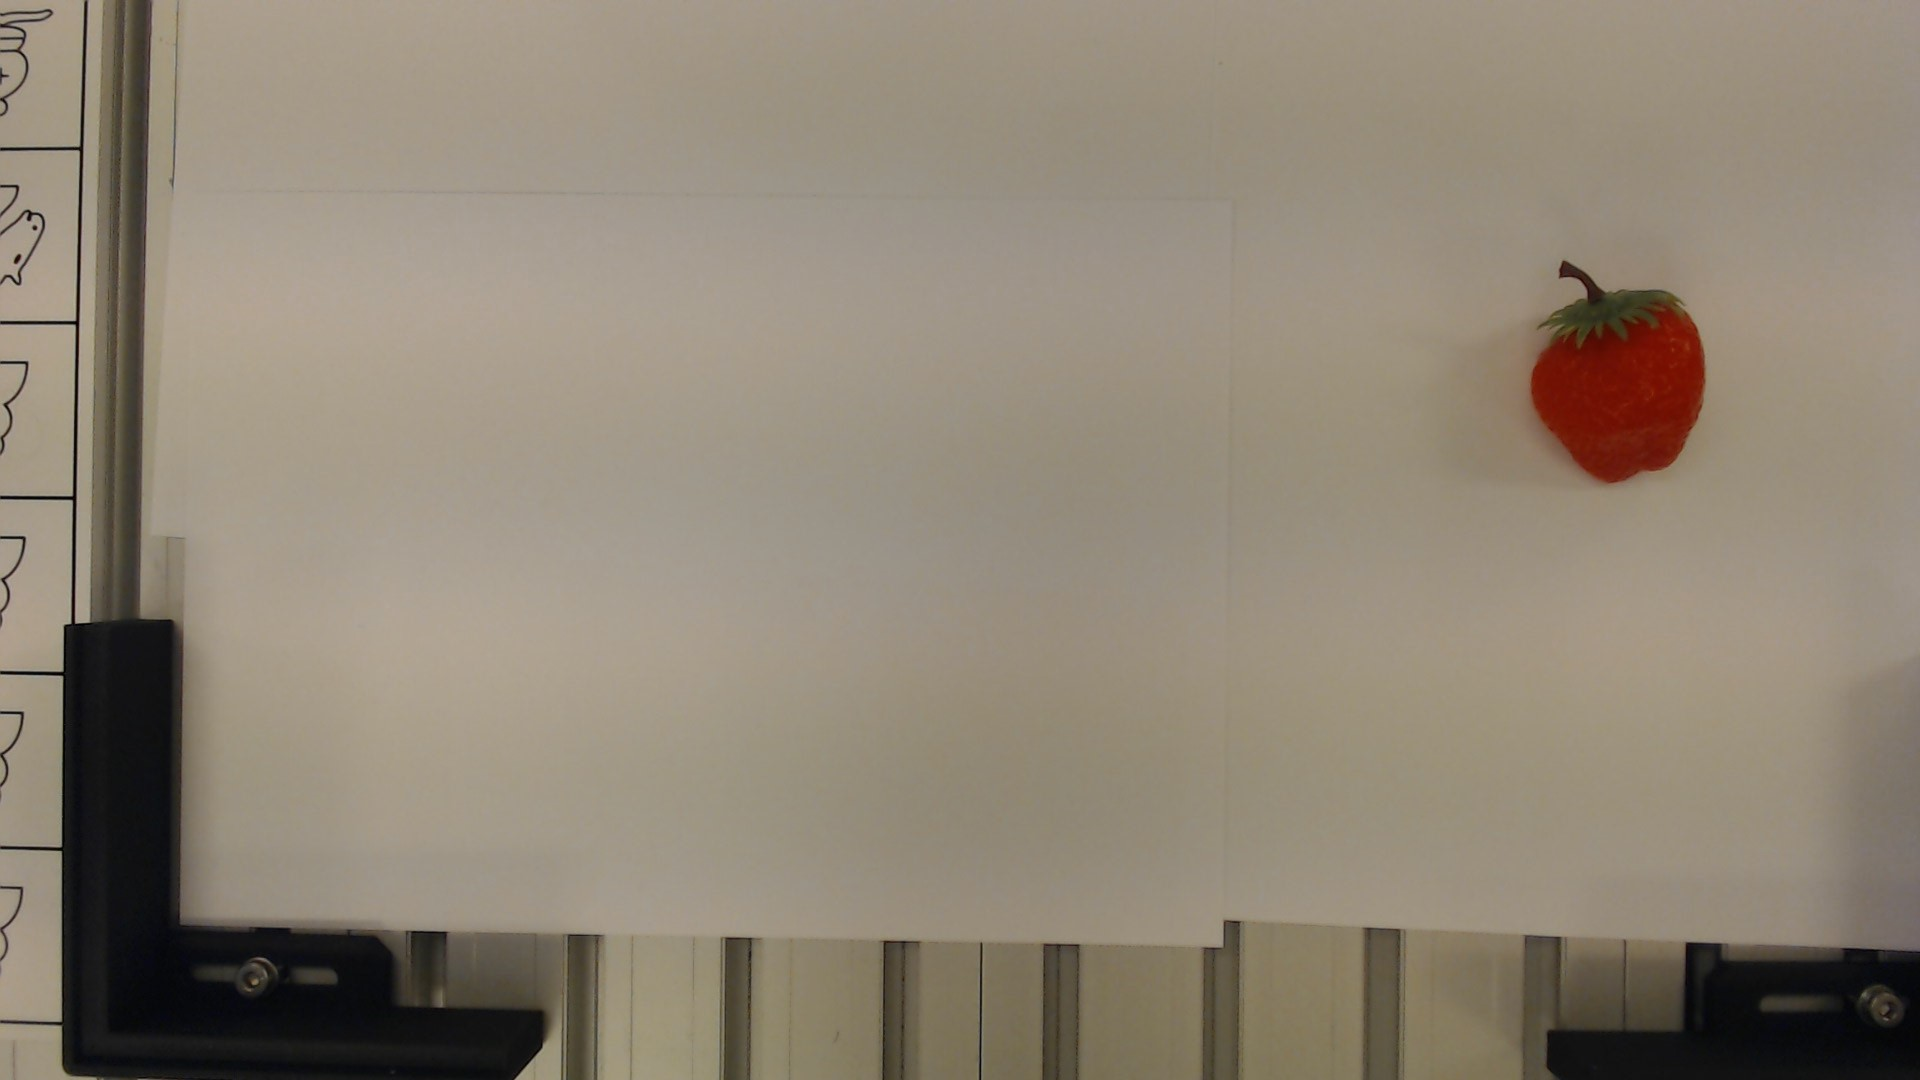Strawberry: (1531, 258, 1712, 487)
